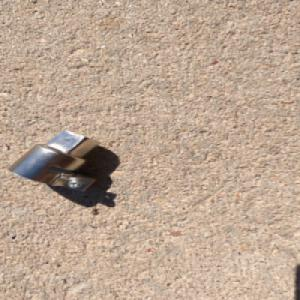MetalPart: (6, 129, 102, 193)
